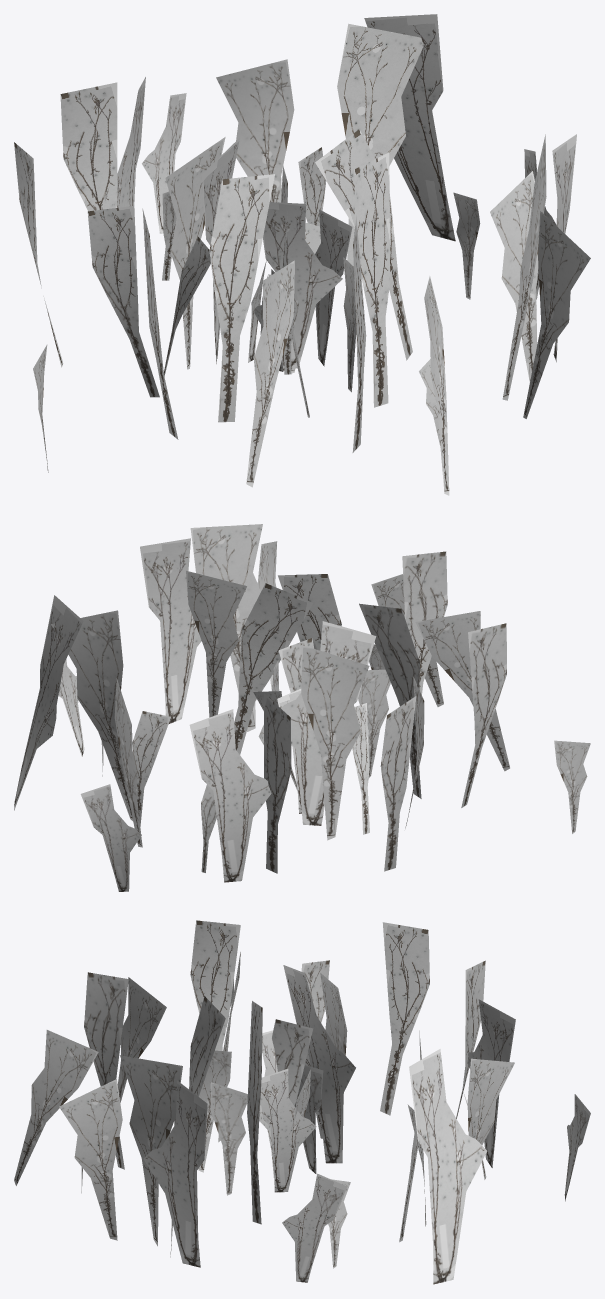
File: Bush2_1.fbx
3 views of the same model, one above another, from view 1: azimuth 30°, elevation 25°; view 2: azimuth 150°, elevation 25°; view 3: azimuth 270°, elevation 25° (orthographic). The views are drawn at different scales.
Visible parts, largest first — view 1: LOD0; view 2: LOD0; view 3: LOD0.
Part boxes in pixels (left/top/right/bottom): LOD0: left=14, top=14, right=590, bottom=495; LOD0: left=14, top=524, right=590, bottom=891; LOD0: left=14, top=920, right=590, bottom=1284.
Size of what is drawn, in the model's own units: 327 by 143 by 342.
